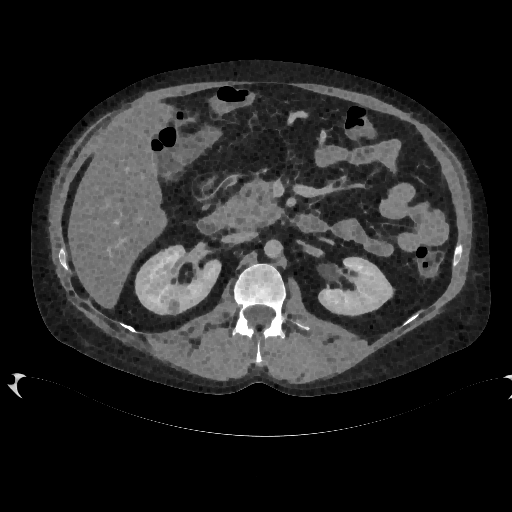Lesion: (163, 297, 184, 317)
